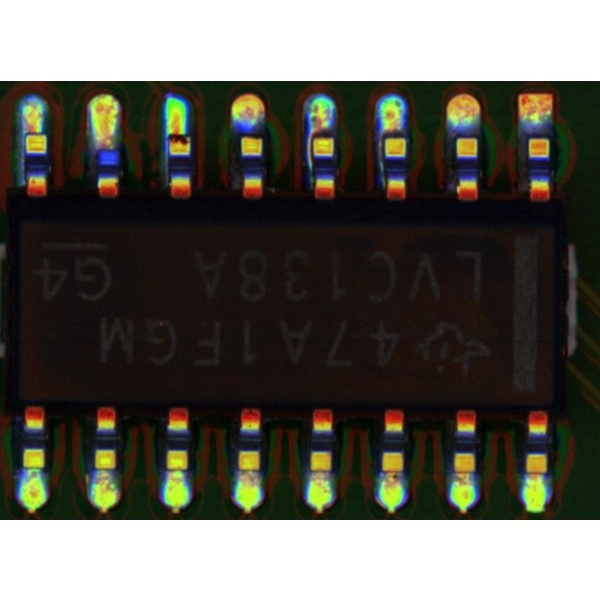Bad_podu: (26, 120, 39, 149)
Bad_qiaojiao: (378, 131, 386, 187), (161, 136, 170, 183), (305, 133, 312, 185)
